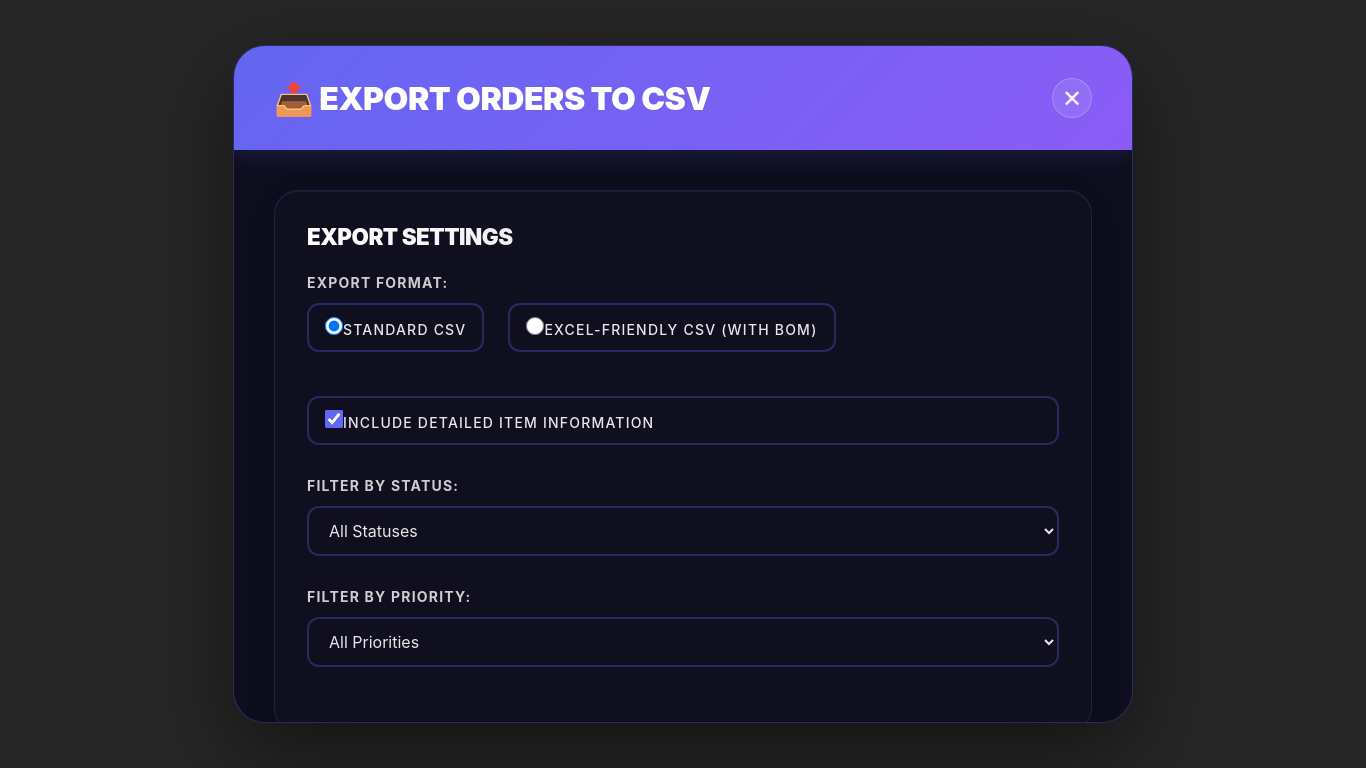
it: CSVExport › export button is disabled when no orders match filters
Filter to show failed orders (none exist)
Select "Failed" in the dropdown labelled "Filter by Status:". click: {"x": 683, "y": 531}
box: [307,506,1059,556]
(page scrolled)
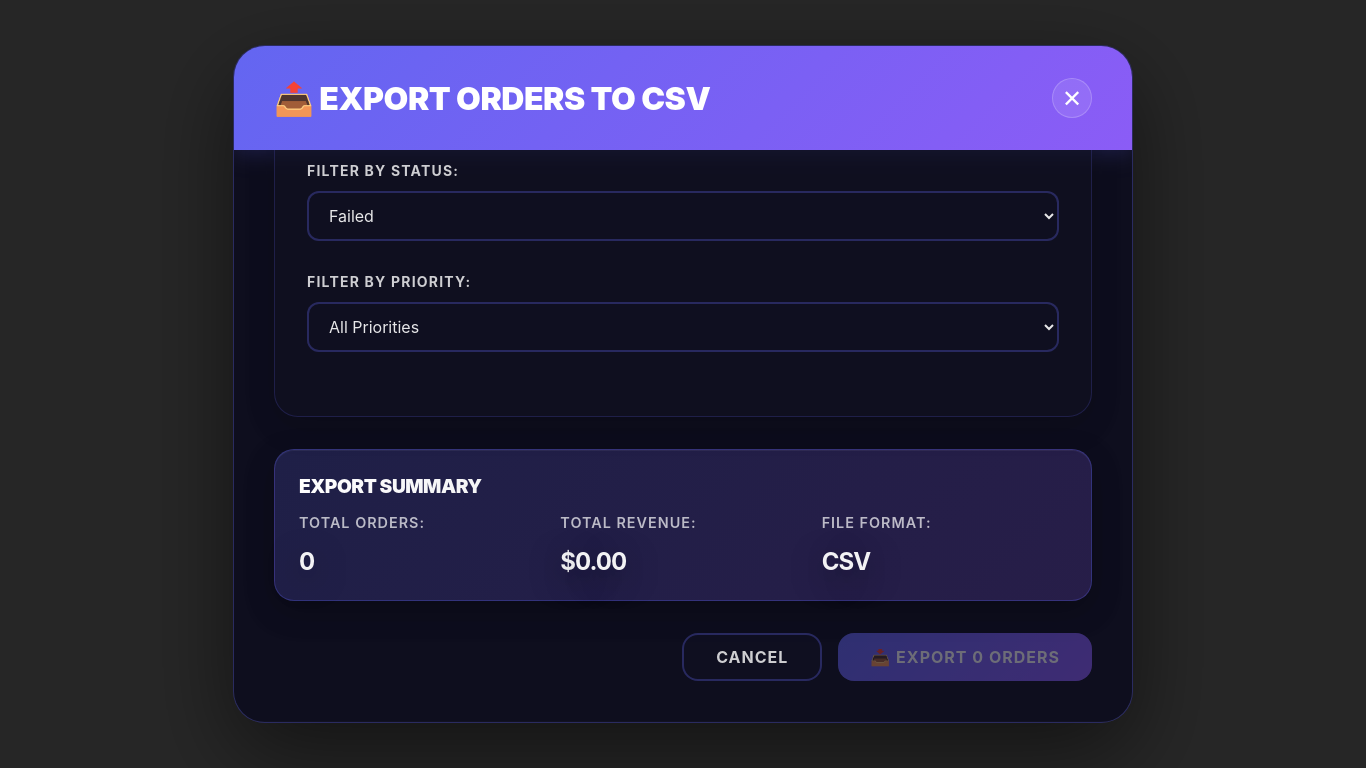
Check: the button "📥 Export 0 Orders" is disabled, box [838,633,1092,681]
